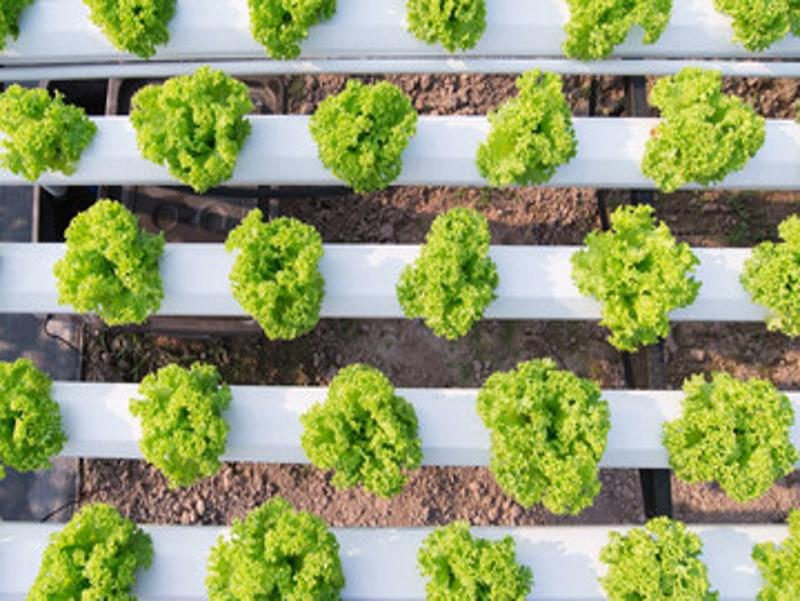green lettuce: (480, 356, 609, 512), (571, 203, 703, 354), (298, 362, 427, 494), (668, 369, 796, 498), (643, 66, 767, 196), (129, 66, 253, 192), (57, 198, 166, 326), (225, 207, 324, 343), (398, 207, 499, 339), (209, 500, 342, 597), (131, 360, 234, 483), (310, 78, 414, 196), (475, 70, 577, 186), (39, 499, 148, 600), (607, 513, 712, 601), (1, 82, 96, 175), (414, 523, 527, 600), (1, 353, 69, 479), (743, 210, 800, 345), (79, 1, 189, 59), (566, 3, 674, 60), (246, 1, 338, 57), (750, 507, 800, 599), (719, 1, 799, 53), (407, 1, 484, 47)
